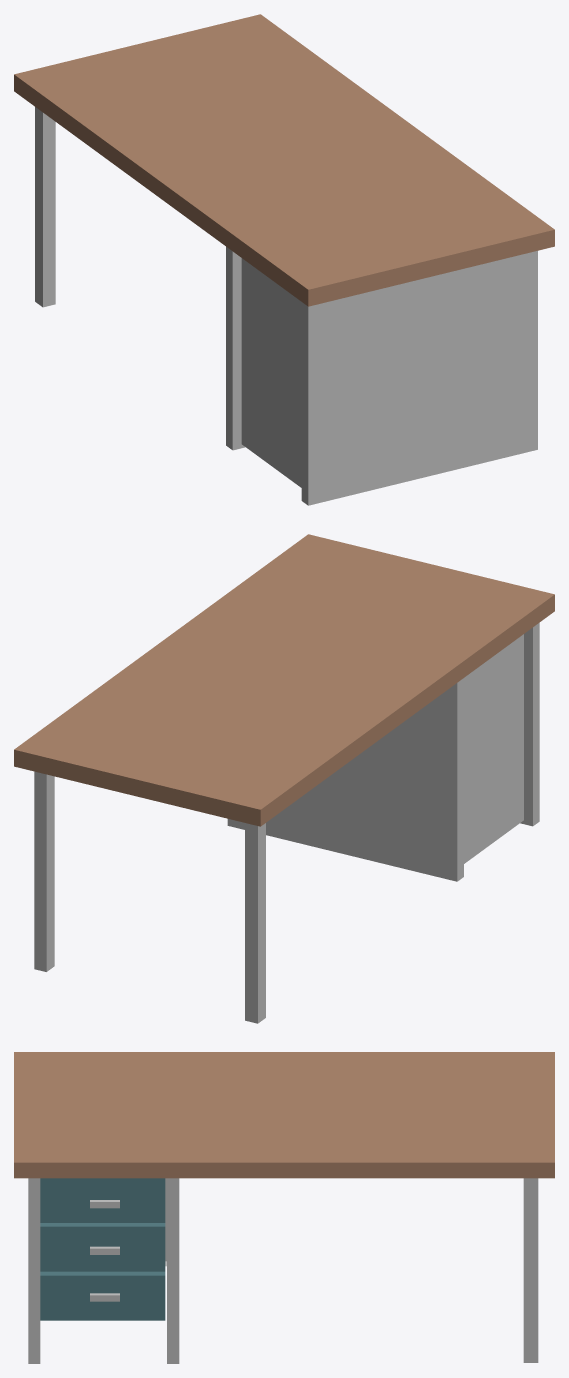
The model's file is SM_Table_A1_Empty.fbx.
3 renders of one model, top to bottom at view 1: azimuth 30°, elevation 25°; view 2: azimuth 150°, elevation 25°; view 3: azimuth 270°, elevation 25°, orthographic. The views are drawn at different scales.
Parts seen in each view (by area): view 1: SM_Table_A1_Empty; view 2: SM_Table_A1_Empty; view 3: SM_Table_A1_Empty.
Part boxes in pixels (x1=…): SM_Table_A1_Empty: x1=14, y1=14, x2=554, y2=505; SM_Table_A1_Empty: x1=14, y1=534, x2=554, y2=1023; SM_Table_A1_Empty: x1=14, y1=1052, x2=554, y2=1363.
Bounding box in the file's own units: 108 × 93.39 × 223.
